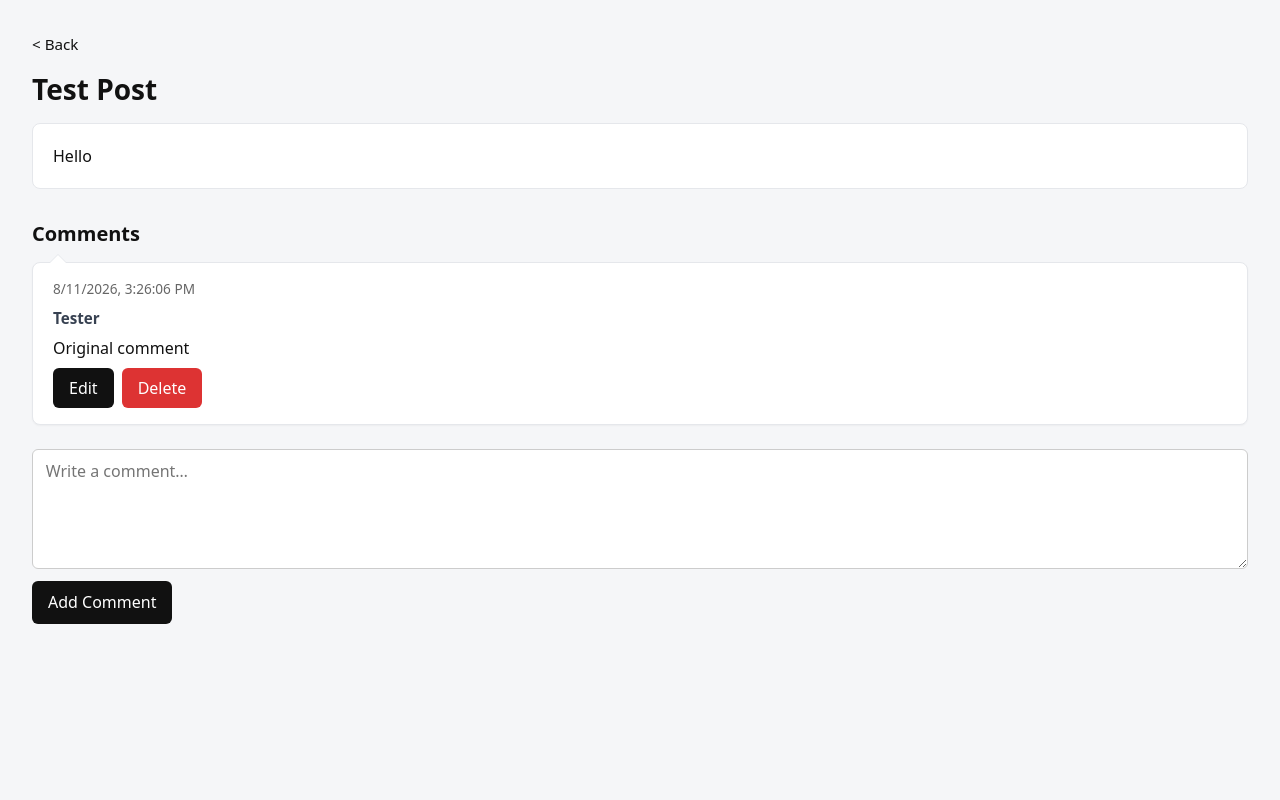
PostDetail › cancels editing a comment
This screenshot has width=1280, height=800.
Expected: the text "Original comment" is shown, left=53, top=337, right=189, bottom=359
Click the button "Edit": click(83, 388) left=53, top=368, right=114, bottom=408
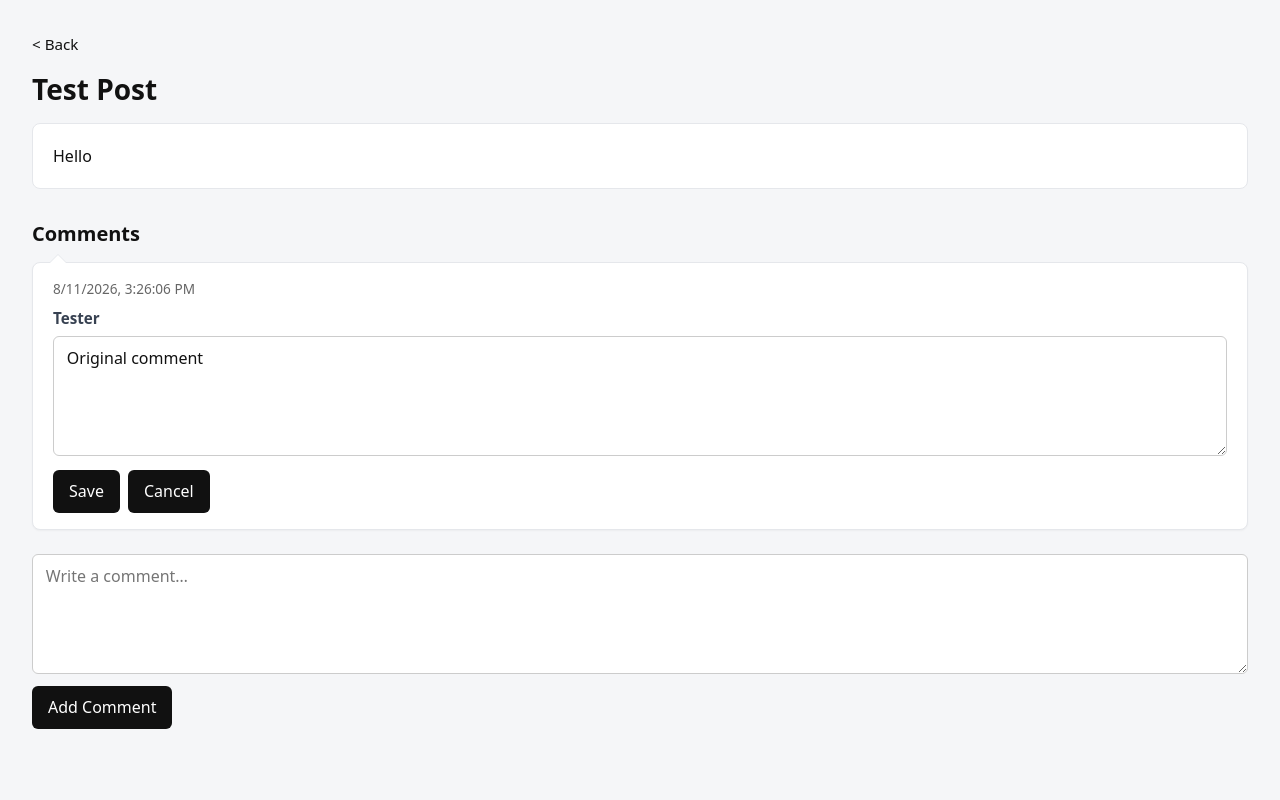
Now the button "Save" is shown, box left=53, top=470, right=120, bottom=513
Click the button "Cancel": click(169, 491) left=128, top=470, right=210, bottom=513
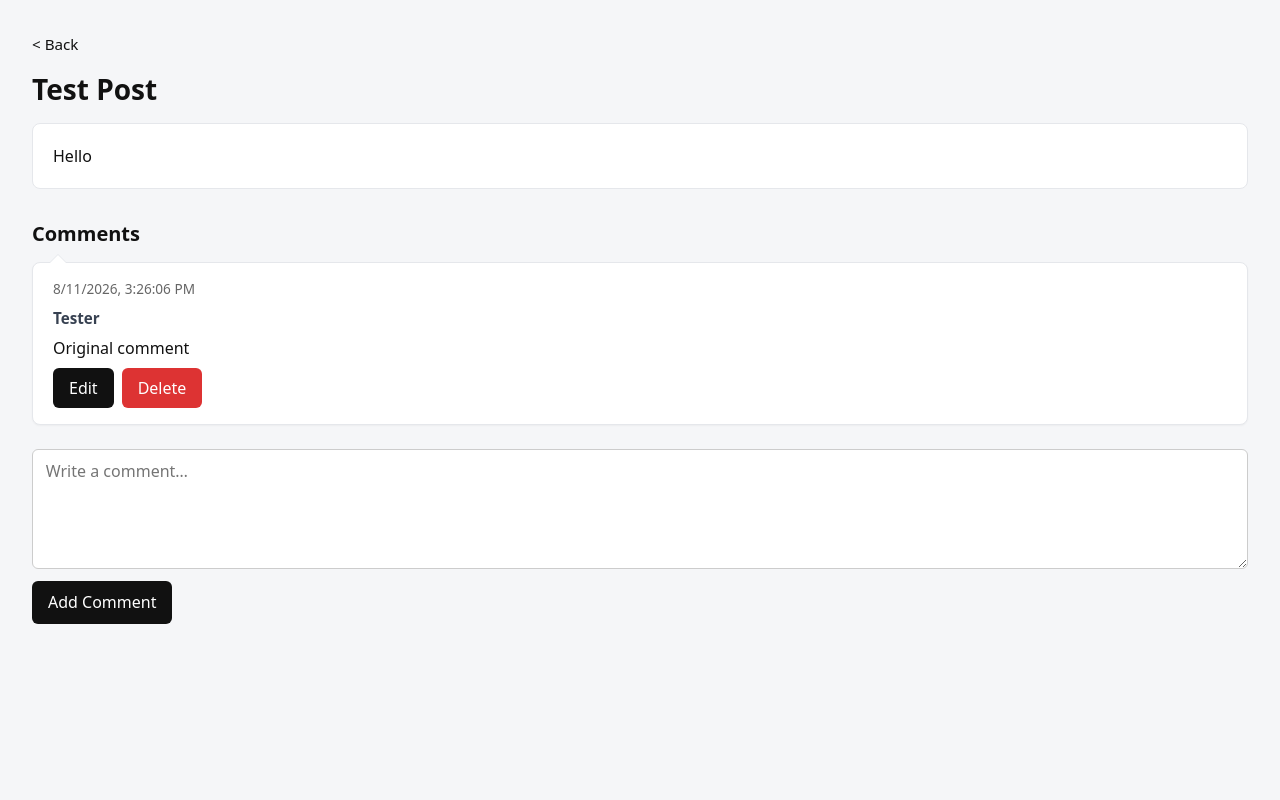
Now the button "Save" is gone
